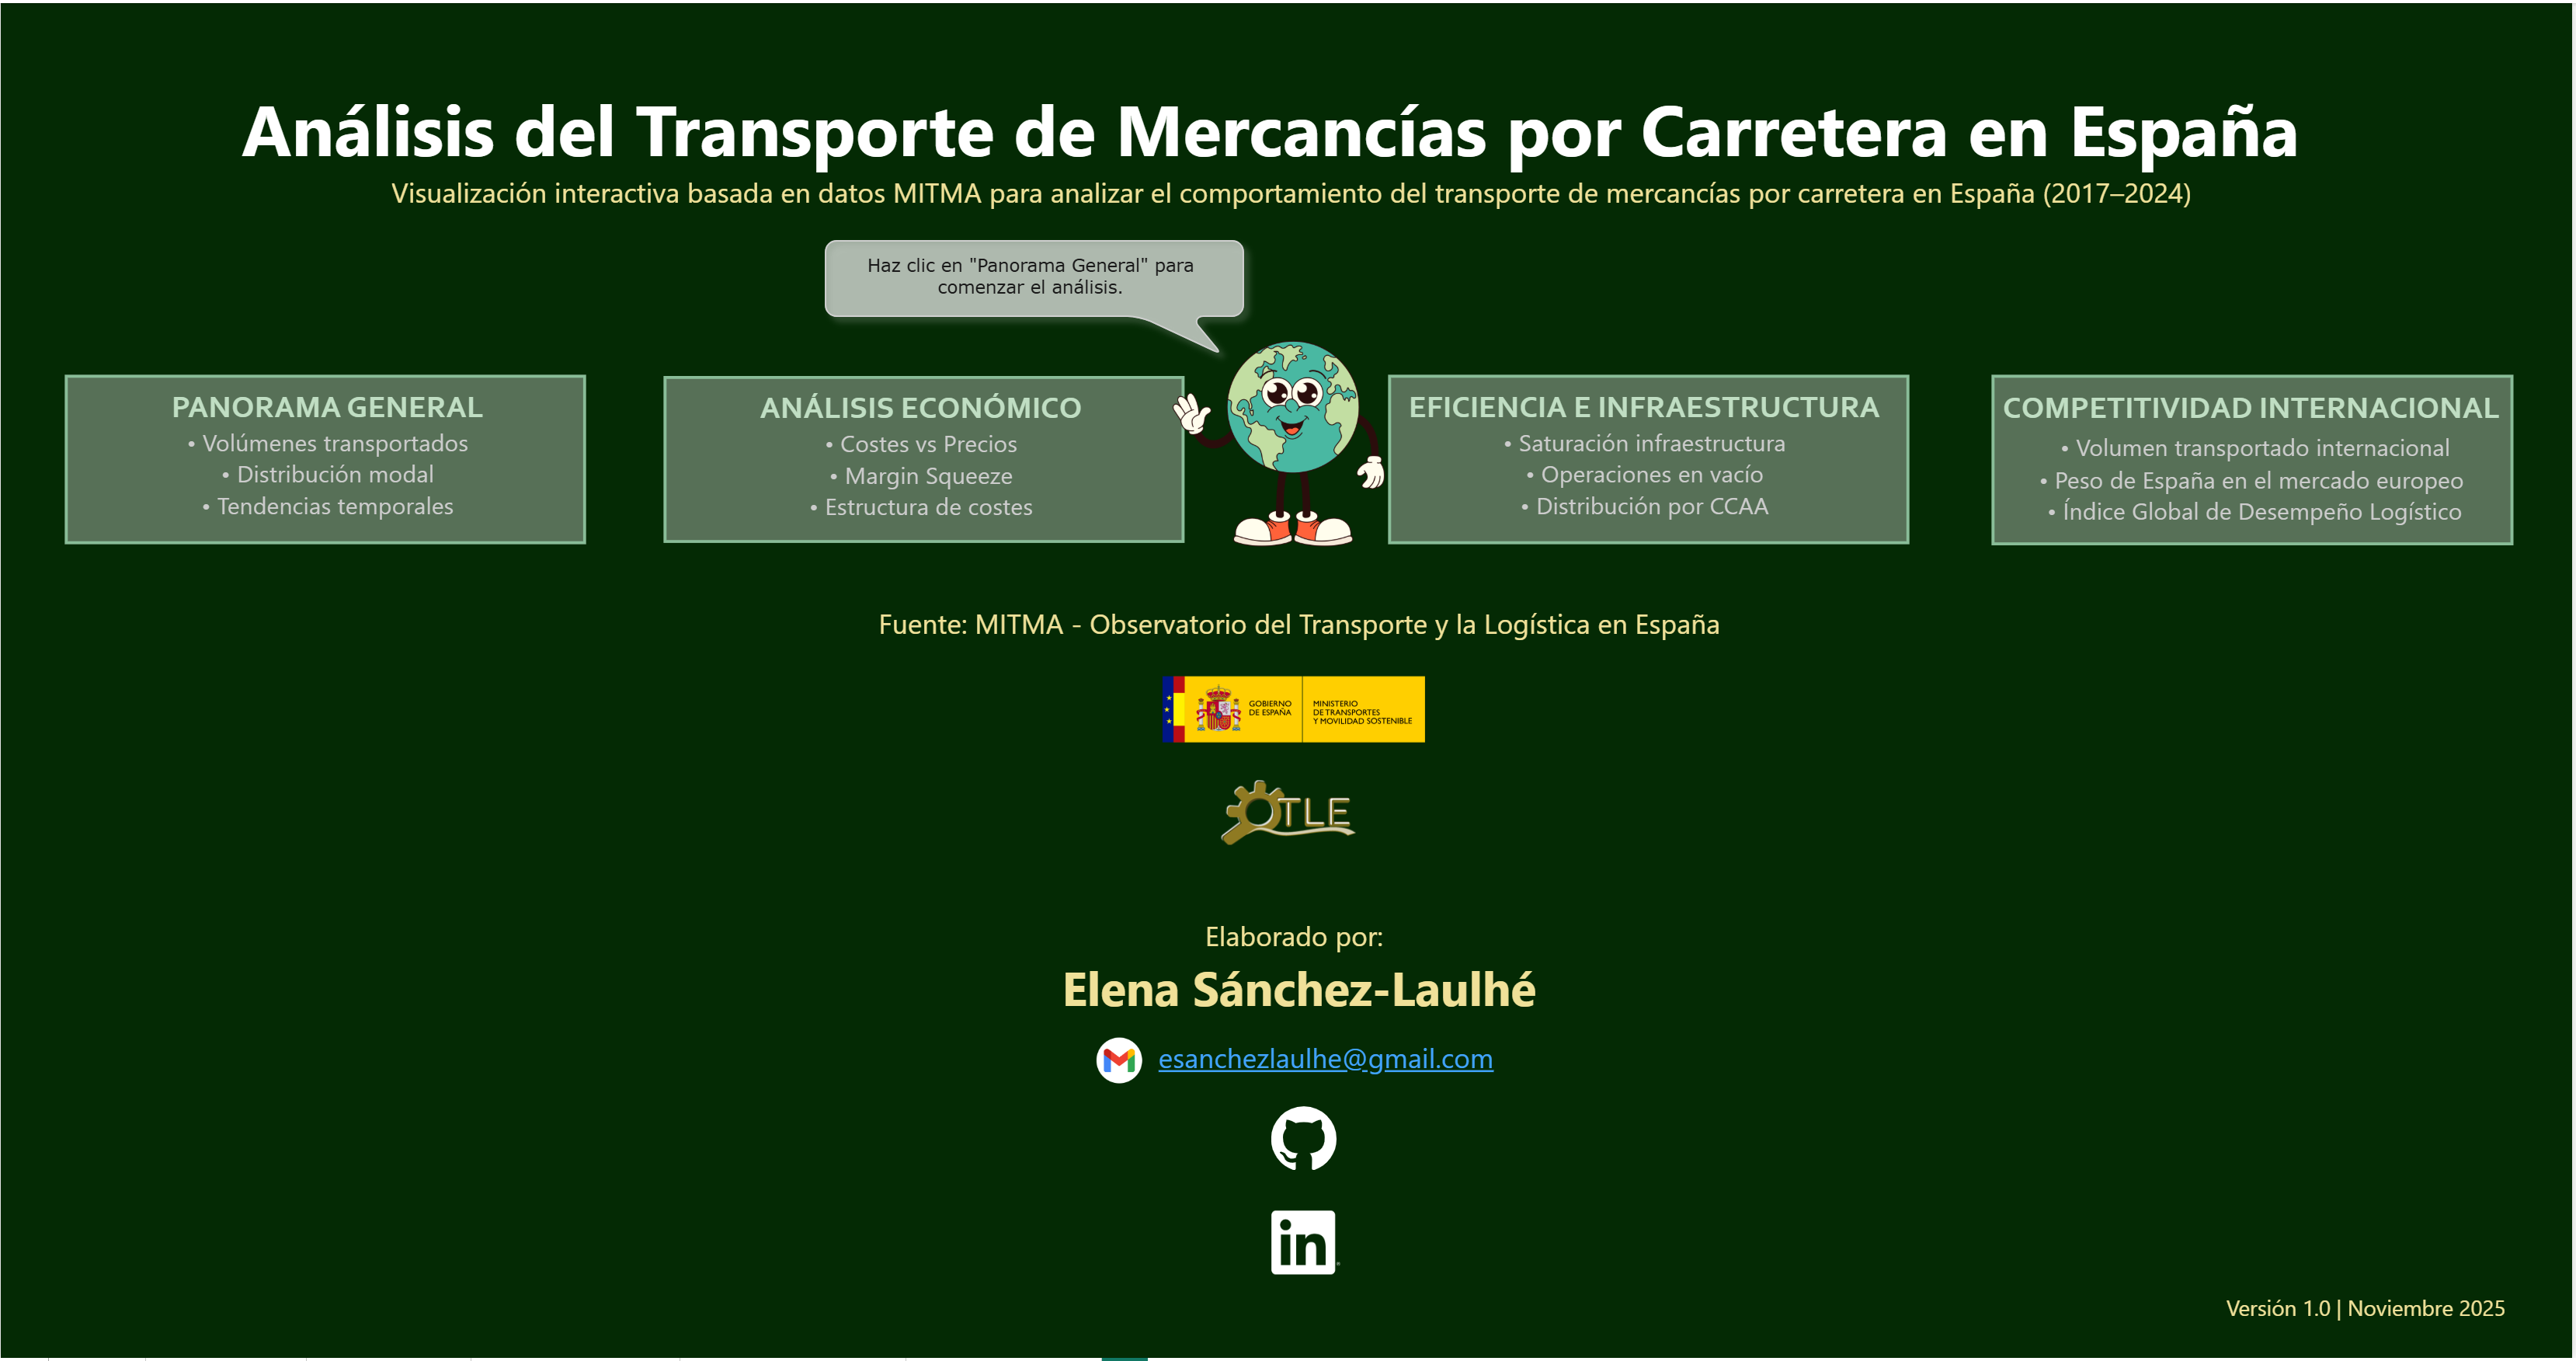

What the dashboard file says about the page in this screenshot:
{"tool":"powerbi","page":{"name":"Portada","canvas":[1747,920],"ordinal":0},"visuals":[{"type":"textbox","box":[45,245.7,353.8,115.2],"z":0,"group":"g3"},{"type":"textbox","box":[939.8,245.9,354.6,115.2],"z":0,"group":"g5"},{"type":"textbox","box":[1348.6,246.8,360.9,115],"z":0,"group":"g6"},{"type":"textbox","box":[448.1,247.2,354.5,113.6],"z":0,"group":"g4"},{"type":"image","box":[782.6,431.3,190.9,97.1],"z":0,"group":"g2"},{"type":"textbox","box":[701.9,609.3,360,87],"z":0},{"type":"image","box":[728.8,696.3,61.7,42.7],"z":0,"group":"g1"},{"type":"shape","box":[43.5,242.9,354.1,115],"z":1000,"group":"g3"},{"type":"shape","box":[943.2,242.9,354,115],"z":1000,"group":"g5"},{"type":"shape","box":[1352.5,242.9,354.4,115.8],"z":1000,"group":"g6"},{"type":"shape","box":[450.3,243.7,353.8,113.4],"z":1000,"group":"g4"},{"type":"image","box":[797.7,522.6,153.9,54.3],"z":1000,"group":"g2"},{"type":"textbox","box":[777.7,697.9,250,34.8],"z":1000,"group":"g1"},{"type":"image","box":[857.6,812.6,56.8,57.6],"z":1000},{"type":"textbox","box":[147.2,75.4,1430.8,91.3],"z":2000},{"type":"textbox","box":[259.8,138.6,1244.7,42.1],"z":3000},{"type":"textbox","box":[541.2,402.8,682.1,41.9],"z":4000},{"type":"group","id":"g1","title":"Grupo 1","box":[728.8,696.3,298.3,42.7],"z":5000},{"type":"group","id":"g2","title":"Grupo 2","box":[782.6,431.3,190.7,145.6],"z":6000},{"type":"group","id":"g3","title":"Grupo 3","box":[43.5,242.9,355.3,117.9],"z":7000},{"type":"group","id":"g4","title":"Grupo 4","box":[448.1,243.7,356.1,117.1],"z":8000},{"type":"group","id":"g5","title":"Grupo 5","box":[939.8,242.9,357.4,118.2],"z":9000},{"type":"group","id":"g6","title":"Grupo 5","box":[1348.6,242.9,360.9,119],"z":10000},{"type":"image","box":[851.9,743.5,65.8,53.5],"z":11000},{"type":"textbox","box":[1486,870.4,241.3,34.8],"z":12000},{"type":"image","box":[782.7,214.4,171.1,155.4],"z":13000}]}

Visuals, with their boxes in screenshot pixels (x1, y1, x2, y2), scaled from the page's 1747x920 canvas onto the 2576x1361 screenshot:
textbox: l=66, t=364, r=588, b=534
textbox: l=1385, t=364, r=1909, b=534
textbox: l=1989, t=365, r=2521, b=535
textbox: l=661, t=366, r=1184, b=534
image: l=1154, t=638, r=1435, b=781
textbox: l=1035, t=901, r=1566, b=1030
image: l=1075, t=1030, r=1166, b=1093
shape: l=64, t=360, r=586, b=530
shape: l=1391, t=360, r=1913, b=530
shape: l=1994, t=360, r=2517, b=531
shape: l=664, t=360, r=1186, b=528
image: l=1177, t=773, r=1403, b=854
textbox: l=1147, t=1032, r=1515, b=1084
image: l=1264, t=1202, r=1348, b=1287
textbox: l=217, t=112, r=2327, b=246
textbox: l=383, t=205, r=2219, b=267
textbox: l=798, t=596, r=1804, b=658
"Grupo 1" group: l=1075, t=1030, r=1514, b=1093
"Grupo 2" group: l=1154, t=638, r=1435, b=854
"Grupo 3" group: l=64, t=360, r=588, b=534
"Grupo 4" group: l=661, t=360, r=1186, b=534
"Grupo 5" group: l=1385, t=360, r=1913, b=534
"Grupo 5" group: l=1989, t=360, r=2521, b=535
image: l=1256, t=1100, r=1353, b=1179
textbox: l=2191, t=1288, r=2547, b=1339
image: l=1154, t=317, r=1406, b=547
